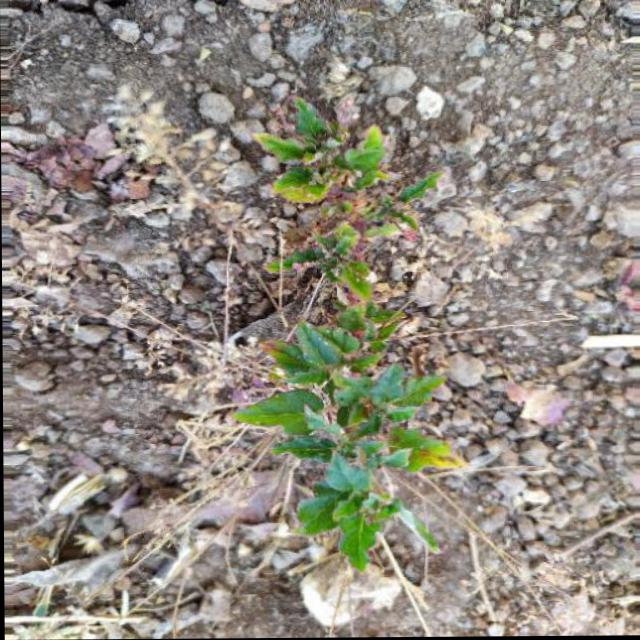weed: (162, 102, 453, 576)
